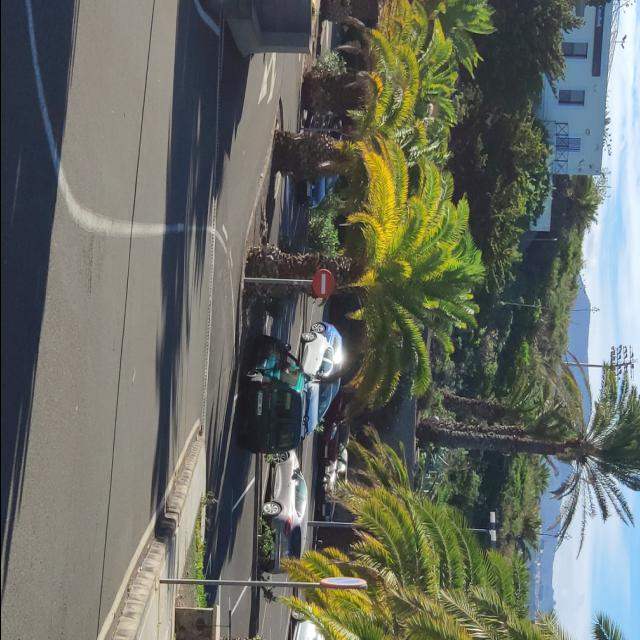Palm-Trees: (238, 154, 490, 406), (417, 354, 640, 542)
